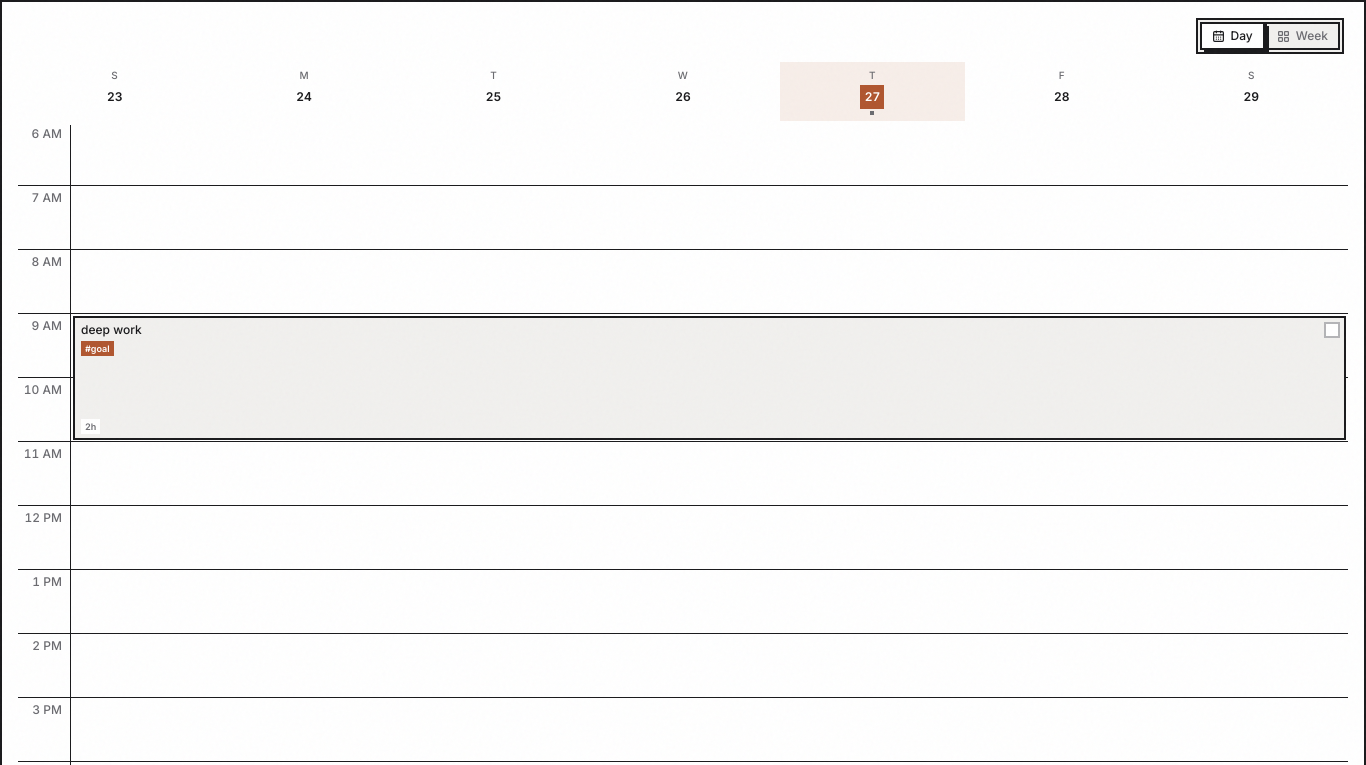
it: WeekCalendar block deletion › opens the cell editor and deletes the block after a confirming click
expect the text "deep work" is shown: met, box [81,322,142,337]
expect the button named "continues from 9 AM" is shown: met, box [73,380,1346,439]
Click the button with aria-label "Edit THU 9 AM: deep work": {"x": 710, "y": 378} [73,316,1346,440]
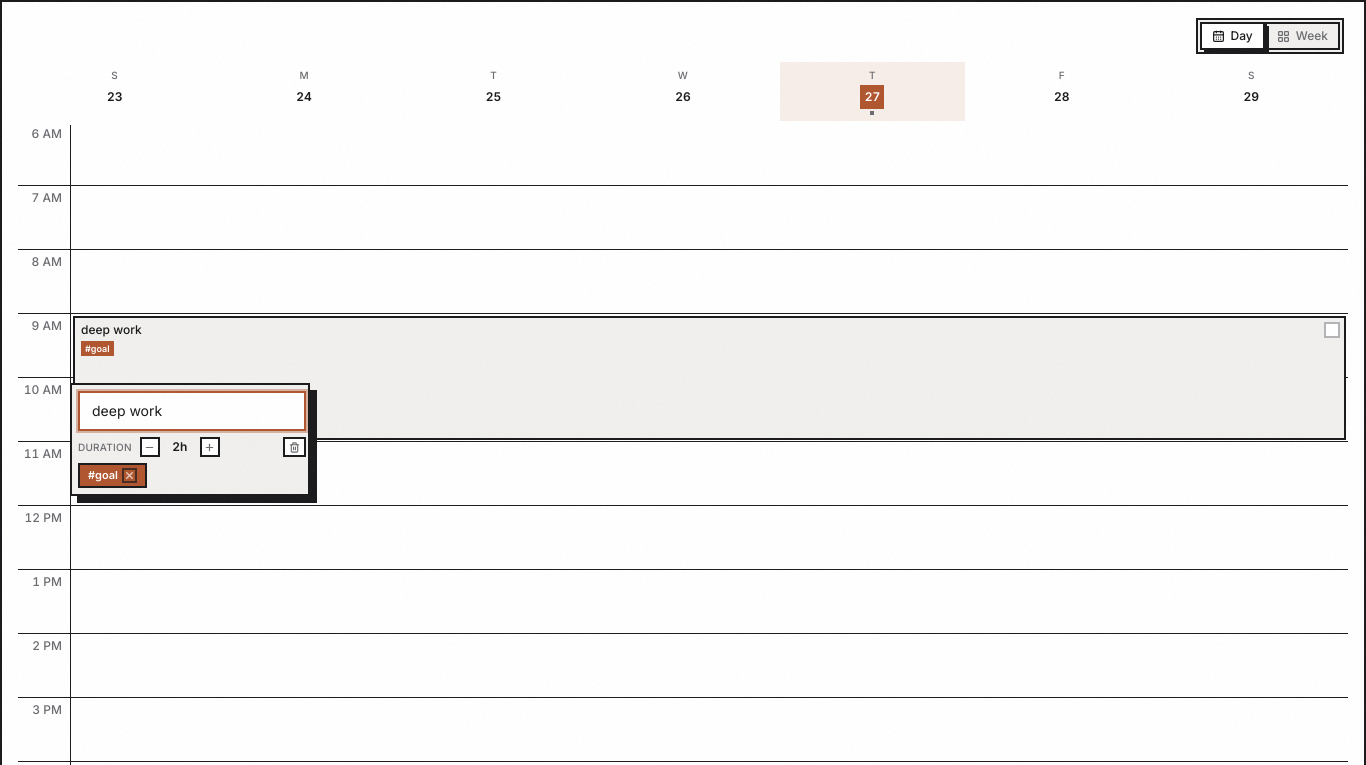
expect the dropdown showing "deep work" is shown: met, box [78,391,306,431]
expect the element showing "Duration 2h #goal" is shown: met, box [70,383,310,496]
expect the text "2h" is shown: met, box [172,439,187,454]
Click the button named "Delete task": {"x": 294, "y": 447} [283,437,306,457]
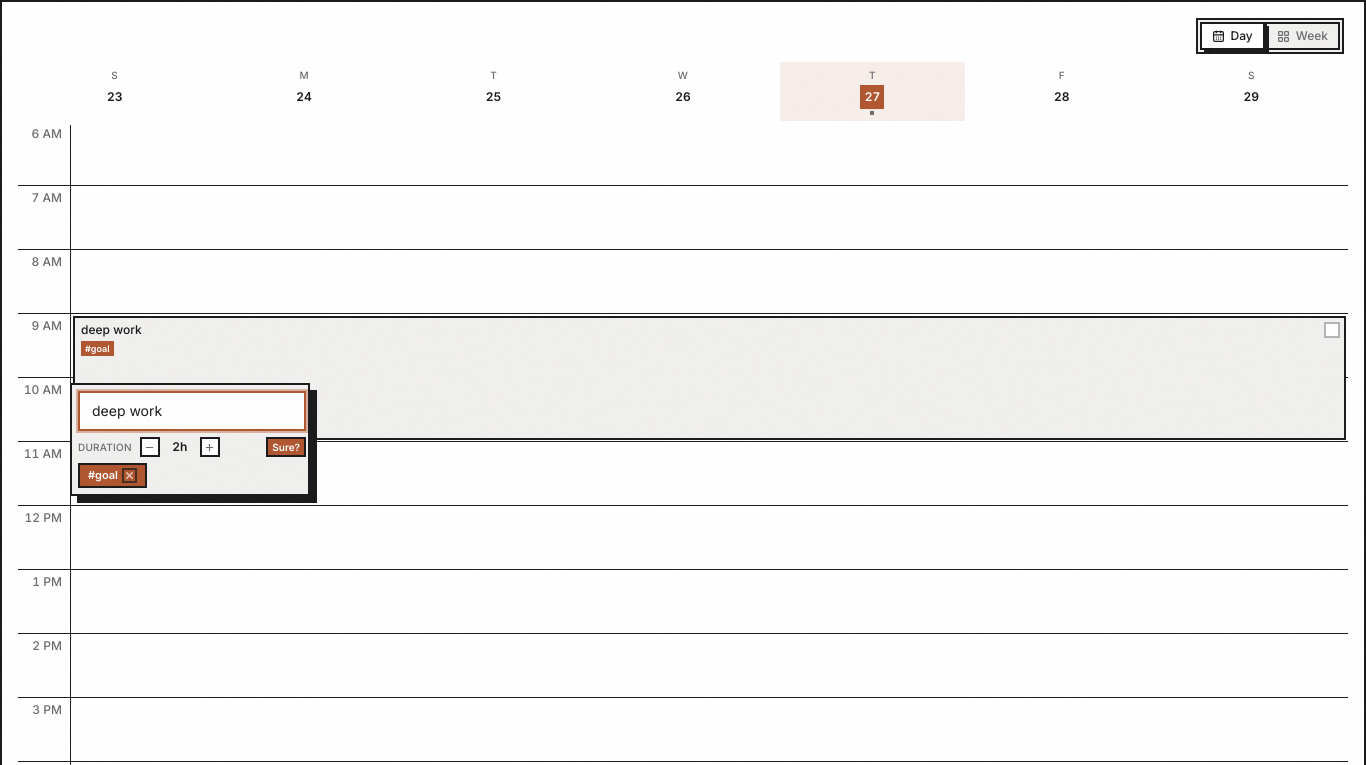
Click the button with aria-label "Click again to confirm delete": {"x": 286, "y": 447} [266,437,306,457]
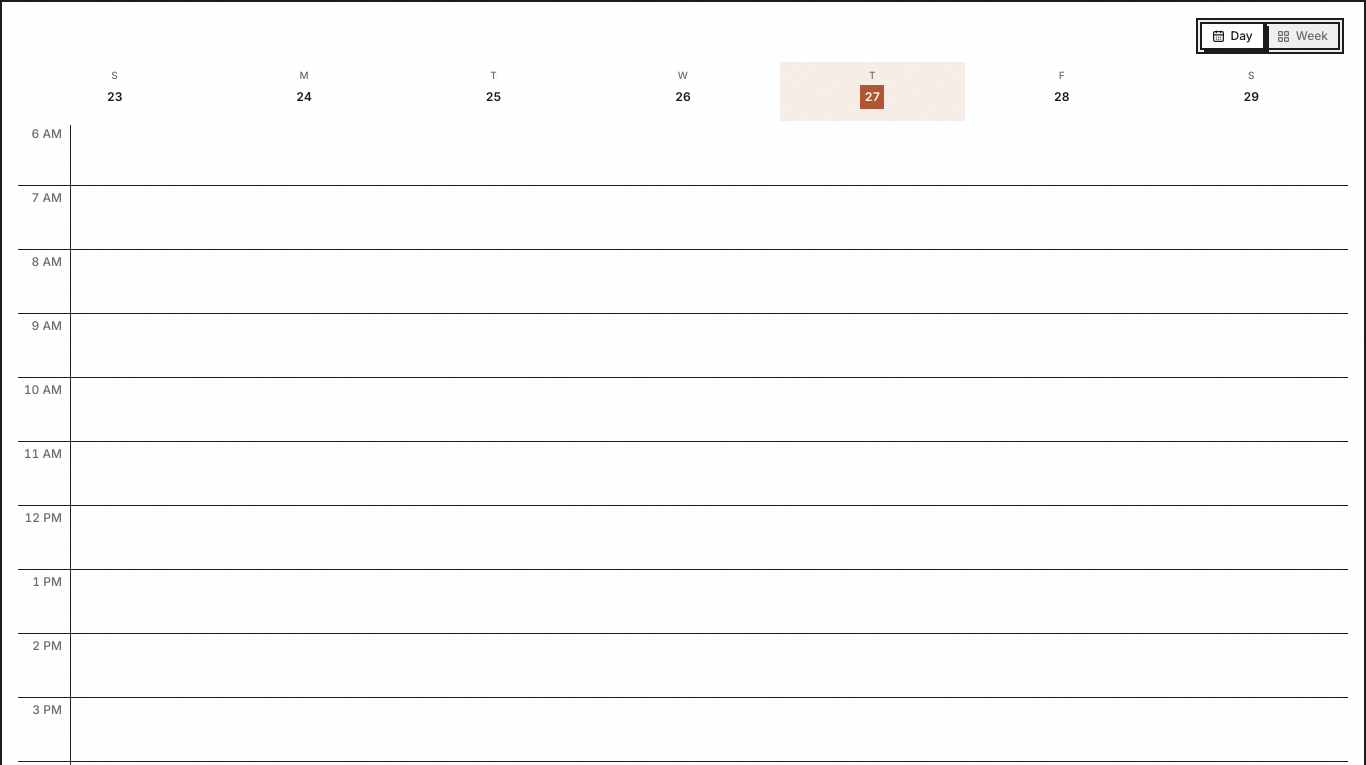
expect the button "deep work" is gone: met
expect the button named "Add task THU at 9 AM" is shown: met, box [73,316,1346,375]
